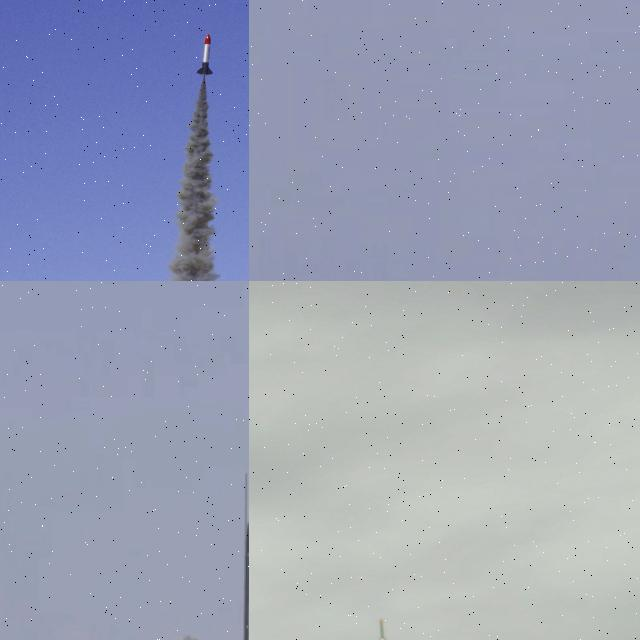Rocket: (242, 524, 249, 640), (196, 33, 214, 76), (377, 618, 387, 640)
